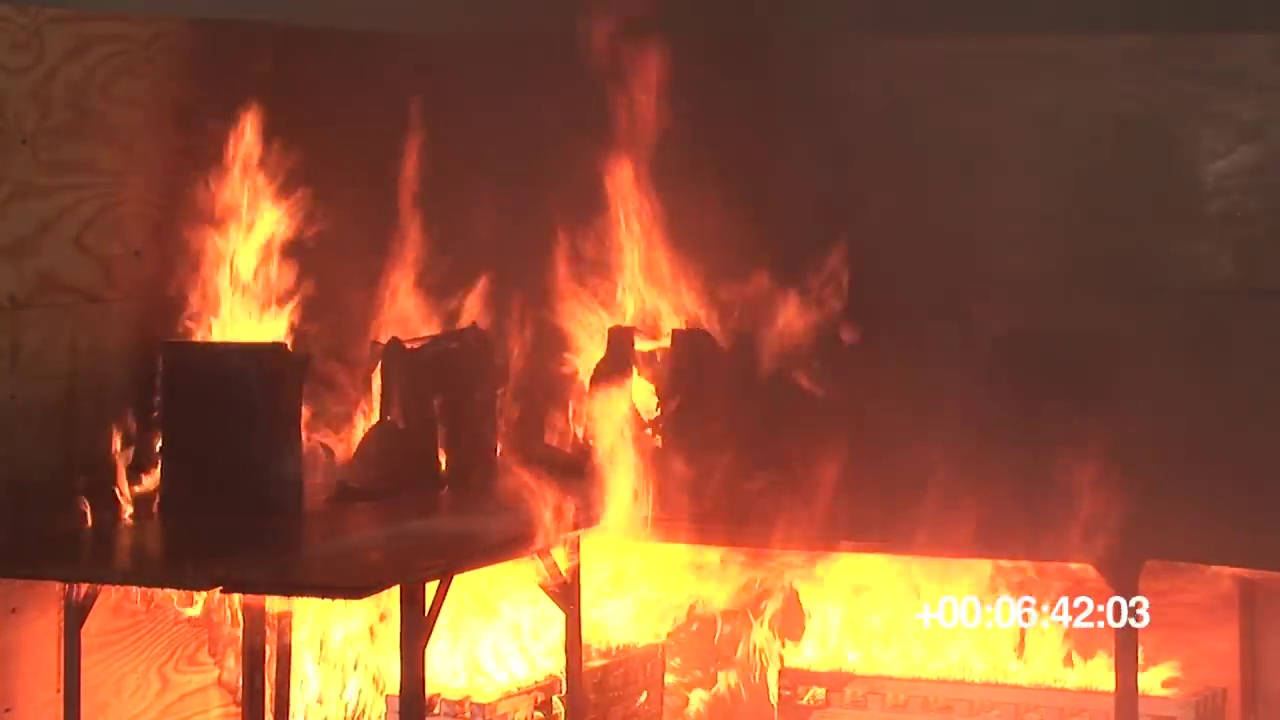fire: (297, 547, 1118, 720), (558, 153, 711, 547), (190, 108, 292, 346), (380, 191, 427, 337), (107, 434, 133, 525)
